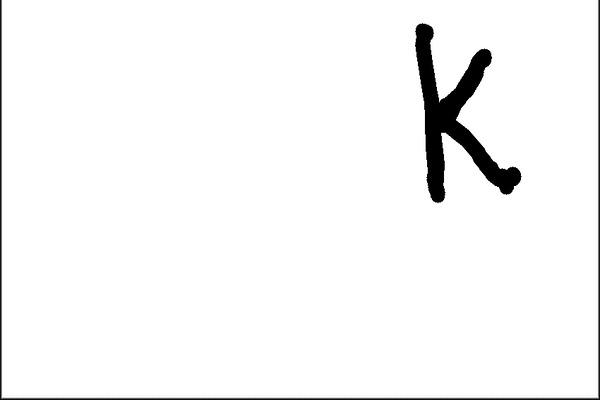K: (405, 15, 526, 209)
